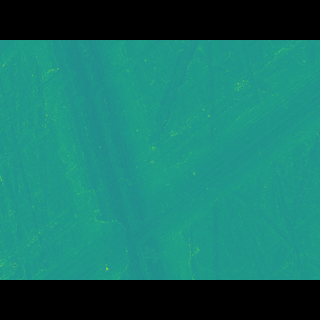Loch: (34, 89, 320, 250), (0, 69, 170, 164)
